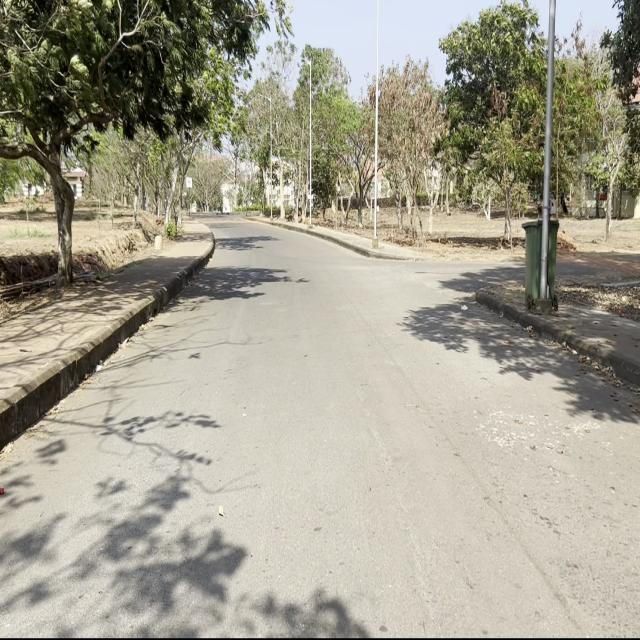Road: (2, 215, 636, 635)
